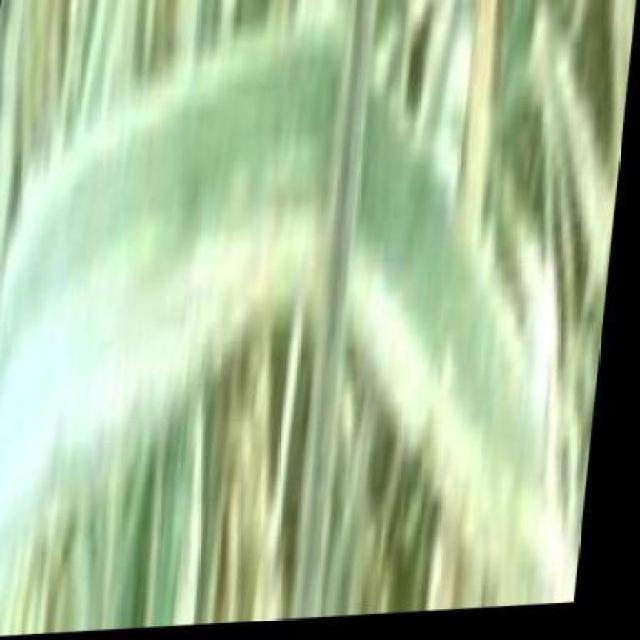Brown_Spot: (0, 37, 562, 446)
